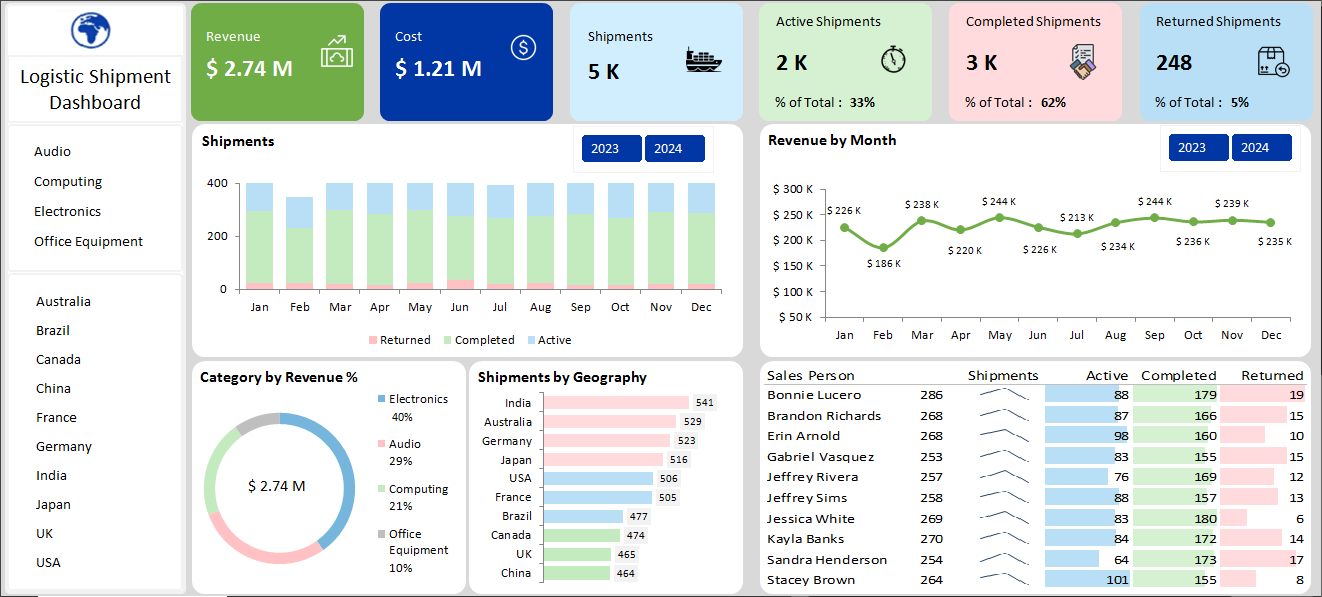

The page's visual inventory and layout, read from the dashboard file:
{"tool":"powerbi","page":{"name":"Logistic Shipment","canvas":[3400,1800],"ordinal":0},"visuals":[{"type":"shape","box":[8.1,904.1,473.8,893],"z":0},{"type":"shape","box":[8.1,396.7,473.5,501.8],"z":1000},{"type":"shape","box":[481.7,0,481.7,299.6],"z":2000},{"type":"shape","box":[967.1,0,481.7,300],"z":3000},{"type":"shape","box":[1454.3,0,480,300],"z":4000},{"type":"shape","box":[1939.7,0,480,300],"z":5000},{"type":"shape","box":[2425.1,0,480,300],"z":6000},{"type":"shape","box":[2910.6,0,481.7,300],"z":7000},{"type":"shape","box":[4,0,473.6,392.7],"z":8000},{"type":"image","box":[801.5,44.5,157.9,113.3],"z":9000},{"type":"image","box":[1291.3,44.5,157.9,113.3],"z":10000},{"type":"image","box":[1765,68.8,157.9,113.3],"z":11000},{"type":"image","box":[2262.9,93.1,157.9,113.3],"z":12000},{"type":"image","box":[2768.9,97.2,137.6,117.4],"z":13000},{"type":"image","box":[3262.7,89.1,129.5,109.3],"z":14000},{"type":"image","box":[141.7,8.1,206.5,174.1],"z":15000},{"type":"card","title":"Revenue","fields":{"Values":["Logistic Shipment Measures.Revenue"]},"box":[510.1,56.7,372.4,194.3],"z":16000},{"type":"card","title":"Cost","fields":{"Values":["Logistic Shipment Measures.Cost"]},"box":[1003.9,56.7,372.4,194.3],"z":17000},{"type":"card","title":"Shipments","fields":{"Values":["Logistic Shipment Measures.Shipments"]},"box":[1477.5,56.7,372.4,194.3],"z":18000},{"type":"card","title":"Active Shipments","fields":{"Values":["Logistic Shipment Measures.Active"]},"box":[1943.1,0,372.4,153.8],"z":19000},{"type":"card","title":"Active Shipments","fields":{"Values":["Logistic Shipment Measures.Active Shipment %"]},"box":[2222.4,182.2,121.4,117.4],"z":20000},{"type":"textbox","box":[1943.1,214.5,263.1,60.7],"z":21000},{"type":"card","title":"Completed Shipments","fields":{"Values":["Logistic Shipment Measures.Completed"]},"box":[2424.8,0,477.7,145.7],"z":22000},{"type":"textbox","box":[2424.8,214.5,263.1,68.8],"z":23000},{"type":"card","title":"Active Shipments","fields":{"Values":["Logistic Shipment Measures.Completed Shipment %"]},"box":[2704.1,182.2,121.4,117.4],"z":24000},{"type":"card","title":"Returned Shipments","fields":{"Values":["Logistic Shipment Measures.Returned"]},"box":[2914.6,0,412.9,153.8],"z":25000},{"type":"textbox","box":[2938.9,218.6,263.1,68.8],"z":26000},{"type":"card","title":"Active Shipments","fields":{"Values":["Logistic Shipment Measures.Returned Shipment %"]},"box":[3202,182.2,121.4,117.4],"z":27000},{"type":"textbox","box":[4,182.2,473.6,174.1],"z":28000},{"type":"clusteredBarChart","fields":{"Y":["Logistic Shipment Measures.Shipments"],"Category":["Country.Geography"]},"box":[1206.3,975.6,728.7,821.8],"z":29000},{"type":"donutChart","title":"Category by Revenue %","fields":{"Category":["Products.Category"],"Y":["Logistic Shipment Measures.Revenue"]},"box":[485.8,975.6,716.5,821.8],"z":30000},{"type":"columnChart","fields":{"Y":["Logistic Shipment Measures.Shipments"],"Category":["Shipment.Date.Variation.Date Hierarchy.Month"],"Series":["Shipment.Status"]},"box":[485.8,303.6,1449.2,667.9],"z":31000},{"type":"lineChart","title":"Revenue by Months","fields":{"Category":["Shipment.Date.Variation.Date Hierarchy.Month"],"Y":["Logistic Shipment Measures.Revenue"]},"box":[1939,307.7,1453.3,663.9],"z":32000},{"type":"pivotTable","fields":{"Rows":["Sales Person.Sales Person"],"Values":["Logistic Shipment Measures.Shipments"],"Columns":["Shipment.Status"]},"box":[1943.1,975.6,1449.2,821.8],"z":33000},{"type":"card","title":"Revenue","fields":{"Values":["Logistic Shipment Measures.Revenue"]},"box":[720.6,1331.8,246.9,113.3],"z":34000},{"type":"advancedSlicerVisual","title":"Category","fields":{"Values":["Products.Category"]},"box":[24.3,421,445.3,449.3],"z":35000},{"type":"advancedSlicerVisual","title":"Category","fields":{"Values":["Country.Geography"]},"box":[24.3,939.2,445.3,825.8],"z":36000},{"type":"advancedSlicerVisual","title":"Category","fields":{"Values":["Shipment.Date.Variation.Date Hierarchy.Year"]},"box":[2987.5,311.7,388.6,89.1],"z":37000},{"type":"advancedSlicerVisual","title":"Category","fields":{"Values":["Shipment.Date.Variation.Date Hierarchy.Year"]},"box":[1534.2,307.7,388.6,89.1],"z":38001}]}

Visuals, with their boxes on the page's 3400x1800 design canvas (x1, y1, x2, y2). These are canvas units, not pixel positions in the 1322x597 screenshot, which may show the page scaled, cropped or inside an application window:
shape: 8, 904, 482, 1797
shape: 8, 397, 482, 898
shape: 482, 0, 963, 300
shape: 967, 0, 1449, 300
shape: 1454, 0, 1934, 300
shape: 1940, 0, 2420, 300
shape: 2425, 0, 2905, 300
shape: 2911, 0, 3392, 300
shape: 4, 0, 478, 393
image: 802, 44, 959, 158
image: 1291, 44, 1449, 158
image: 1765, 69, 1923, 182
image: 2263, 93, 2421, 206
image: 2769, 97, 2906, 215
image: 3263, 89, 3392, 198
image: 142, 8, 348, 182
"Revenue" card: 510, 57, 882, 251
"Cost" card: 1004, 57, 1376, 251
"Shipments" card: 1478, 57, 1850, 251
"Active Shipments" card: 1943, 0, 2316, 154
"Active Shipments" card: 2222, 182, 2344, 300
textbox: 1943, 214, 2206, 275
"Completed Shipments" card: 2425, 0, 2902, 146
textbox: 2425, 214, 2688, 283
"Active Shipments" card: 2704, 182, 2826, 300
"Returned Shipments" card: 2915, 0, 3328, 154
textbox: 2939, 219, 3202, 287
"Active Shipments" card: 3202, 182, 3323, 300
textbox: 4, 182, 478, 356
clusteredBarChart - Logistic Shipment Measures.Shipments x Country.Geography: 1206, 976, 1935, 1797
"Category by Revenue %" donutChart: 486, 976, 1202, 1797
columnChart - Logistic Shipment Measures.Shipments x Shipment.Date.Variation.Date Hierarchy.Month: 486, 304, 1935, 972
"Revenue by Months" lineChart: 1939, 308, 3392, 972
pivotTable - Sales Person.Sales Person x Logistic Shipment Measures.Shipments: 1943, 976, 3392, 1797
"Revenue" card: 721, 1332, 968, 1445
"Category" advancedSlicerVisual: 24, 421, 470, 870
"Category" advancedSlicerVisual: 24, 939, 470, 1765
"Category" advancedSlicerVisual: 2988, 312, 3376, 401
"Category" advancedSlicerVisual: 1534, 308, 1923, 397
